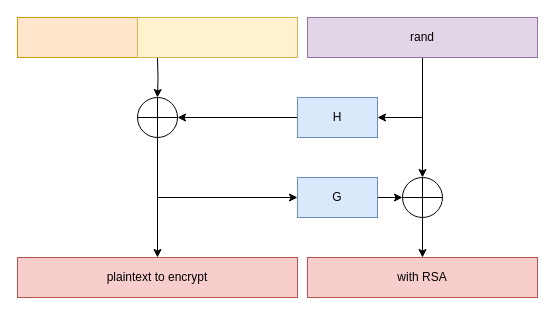
Some shapes in this 555 by 315 pixel diagram are drawn without their labels. Here are the shapes that lost their labels. From the top down, the centre of each, then its label:
point 77,37: msg
point 217,37: W(m, r)
